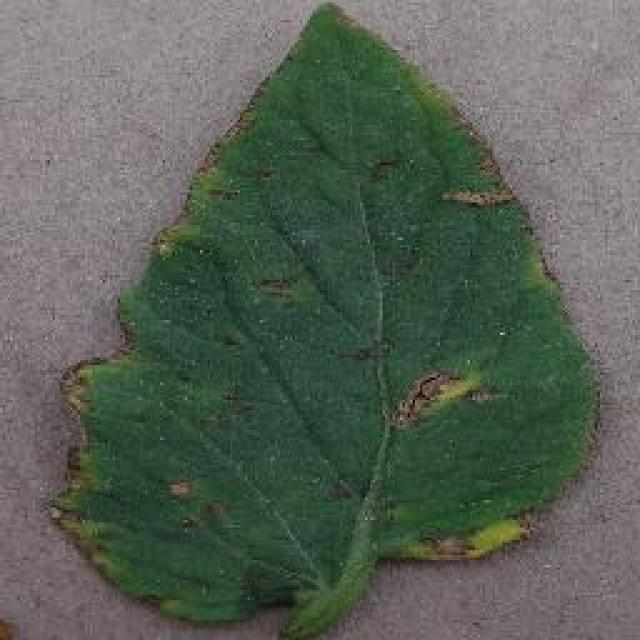bacterial spot: (44, 0, 605, 640)
